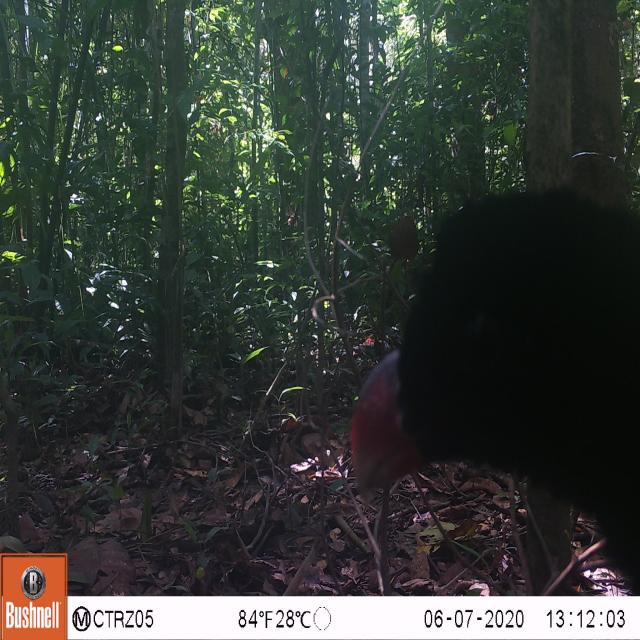Salvins Curassow: (338, 169, 640, 587)
